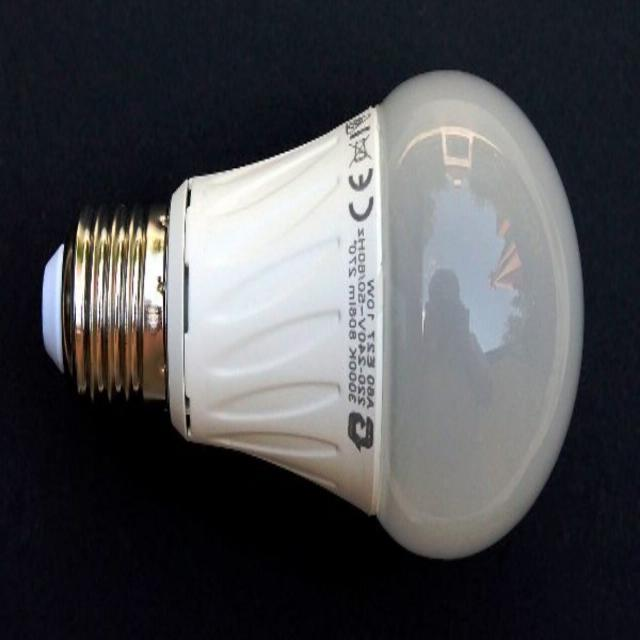light_bulb: (25, 43, 595, 591)
